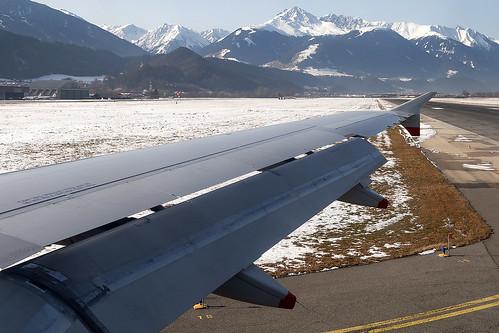building: (28, 80, 90, 104)
mountain: (222, 6, 482, 44), (136, 5, 218, 53)
sky: (91, 1, 491, 21)
